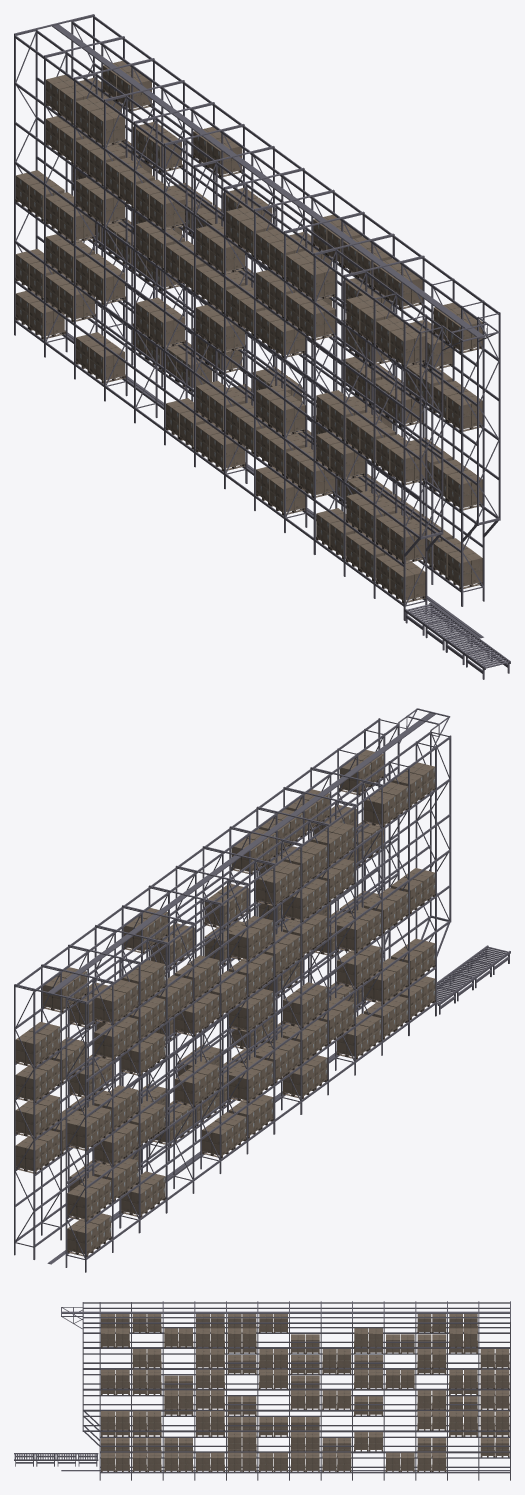
The model's file is goodsShelves.glb.
3 views of the same model, one above another, from view 1: azimuth 30°, elevation 25°; view 2: azimuth 150°, elevation 25°; view 3: azimuth 270°, elevation 25° (orthographic). The views are drawn at different scales.
Visible parts, largest first — view 1: 货架; view 2: 货架; view 3: 货架.
Boxes of the visible parts, x1=… form: 货架: x1=14, y1=14, x2=510, y2=679; 货架: x1=14, y1=708, x2=510, y2=1272; 货架: x1=14, y1=1301, x2=510, y2=1480.
Size of the model in its own units: 3.17 by 11.22 by 31.79.
2 materials, 1 textured.
